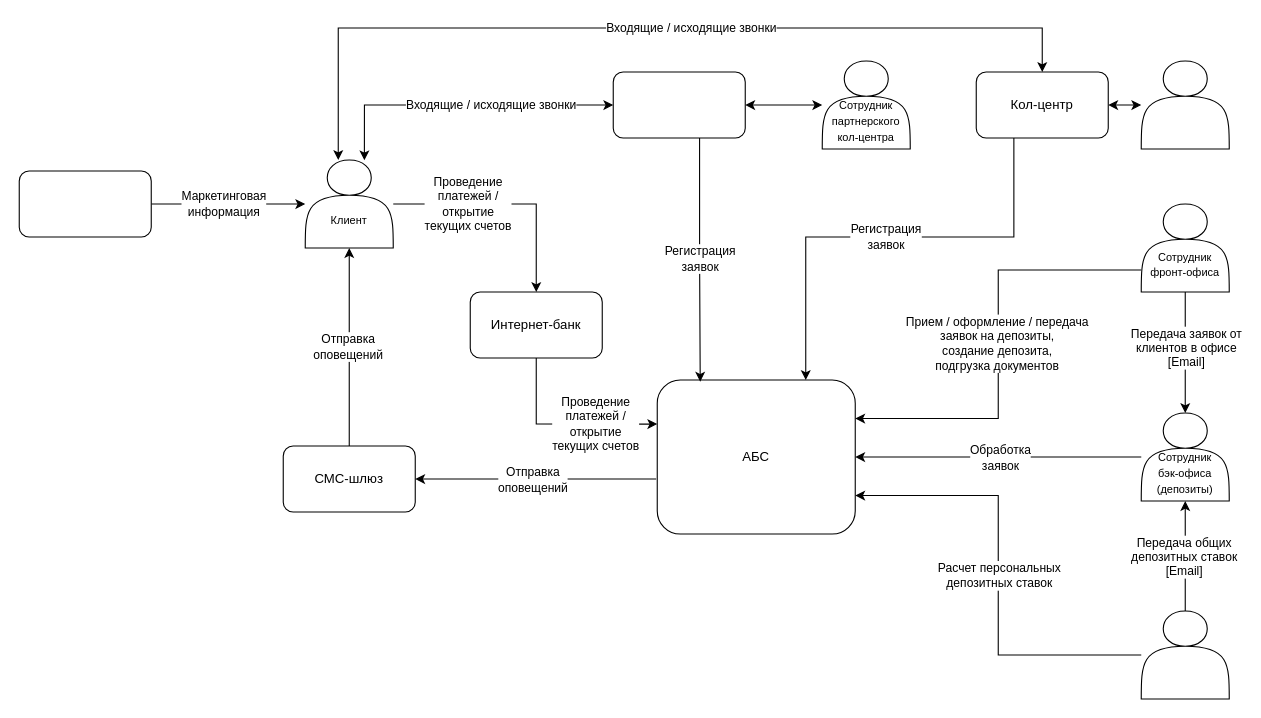
This 1261x718 diagram has some shape labels left out. The centre of each missing label's shape, as x and y in pixels:
"Партнерский кол-центр" belongs at (678,104).
"Сайт" belongs at (84,203).
"Сотрудник бэк-офиса (кредиты)" belongs at (1184,654).
"Сотрудник кол-центра" belongs at (1184,104).
